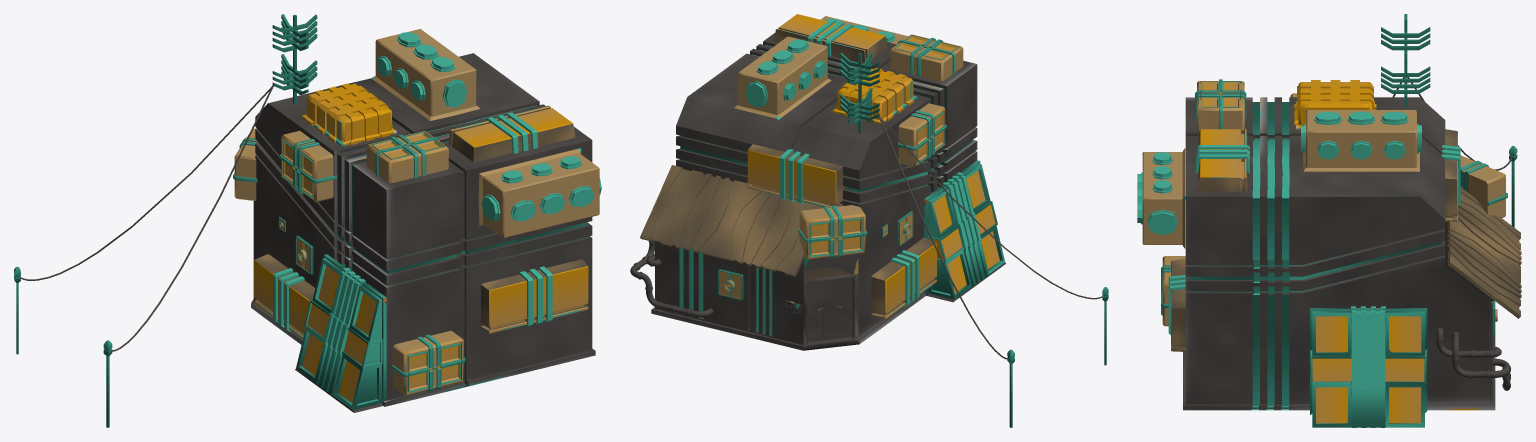
Rendered from House Prefab 1.fbx.
3 renders of one model, left to right at view 1: azimuth 30°, elevation 25°; view 2: azimuth 150°, elevation 25°; view 3: azimuth 270°, elevation 25°, orthographic. The views are drawn at different scales.
Parts seen in each view (by area): view 1: House_Base; view 2: House_Base; view 3: House_Base.
Part boxes in pixels (bbox=[...]): House_Base: bbox=[14, 14, 601, 427]; House_Base: bbox=[630, 14, 1108, 427]; House_Base: bbox=[1137, 14, 1521, 427].
Bounding box in the file's own units: 1794 × 1224 × 1333.
1 material, 1 textured.
